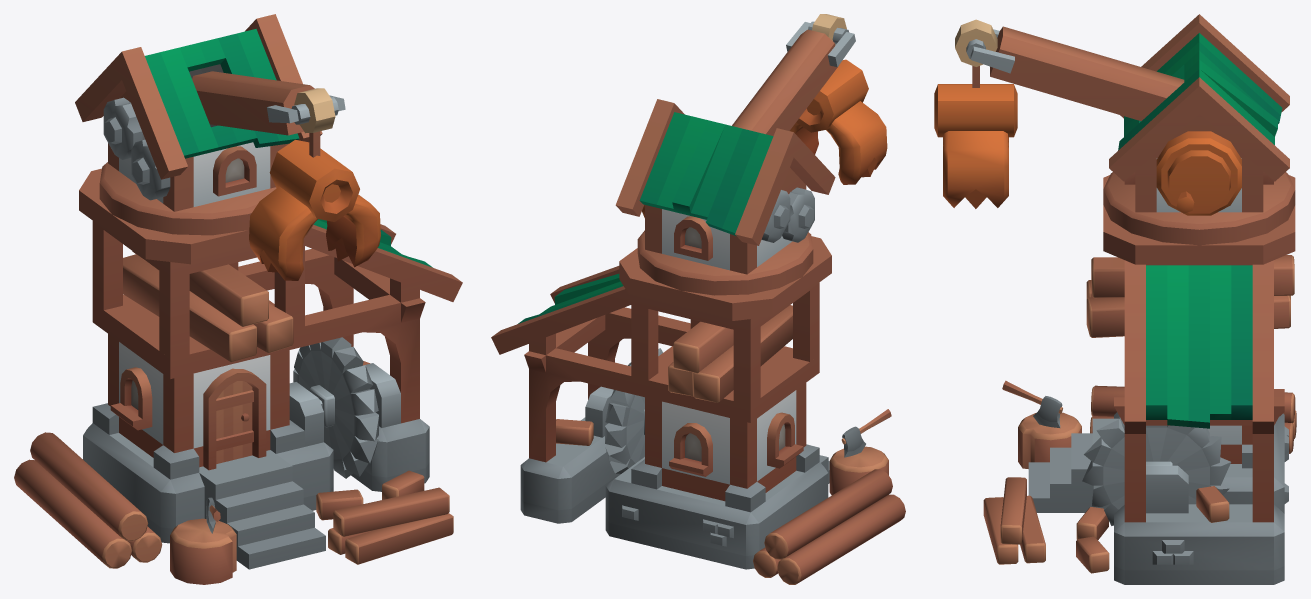
Rendered from building_lumbermill_green.gltf.
The picture shows the model from 3 angles, left to right: view 1: azimuth 30°, elevation 25°; view 2: azimuth 150°, elevation 25°; view 3: azimuth 270°, elevation 25°; orthographic projection. The views are drawn at different scales.
Visible parts, largest first — view 1: building_lumbermill_green, building_lumbermill_top_green, building_lumbermill_saw_green; view 2: building_lumbermill_green, building_lumbermill_top_green, building_lumbermill_saw_green; view 3: building_lumbermill_green, building_lumbermill_top_green, building_lumbermill_saw_green.
Part boxes in pixels (bbox=[...]): building_lumbermill_green: bbox=[14, 168, 462, 584]; building_lumbermill_top_green: bbox=[75, 14, 380, 280]; building_lumbermill_saw_green: bbox=[293, 337, 378, 478]; building_lumbermill_green: bbox=[491, 236, 905, 584]; building_lumbermill_top_green: bbox=[615, 14, 887, 295]; building_lumbermill_saw_green: bbox=[605, 348, 662, 474]; building_lumbermill_green: bbox=[983, 175, 1296, 584]; building_lumbermill_top_green: bbox=[934, 14, 1295, 245]; building_lumbermill_saw_green: bbox=[1082, 417, 1231, 525].
Size of the model in its own units: 1.37 by 1.71 by 1.19.
1 material, 1 textured.
